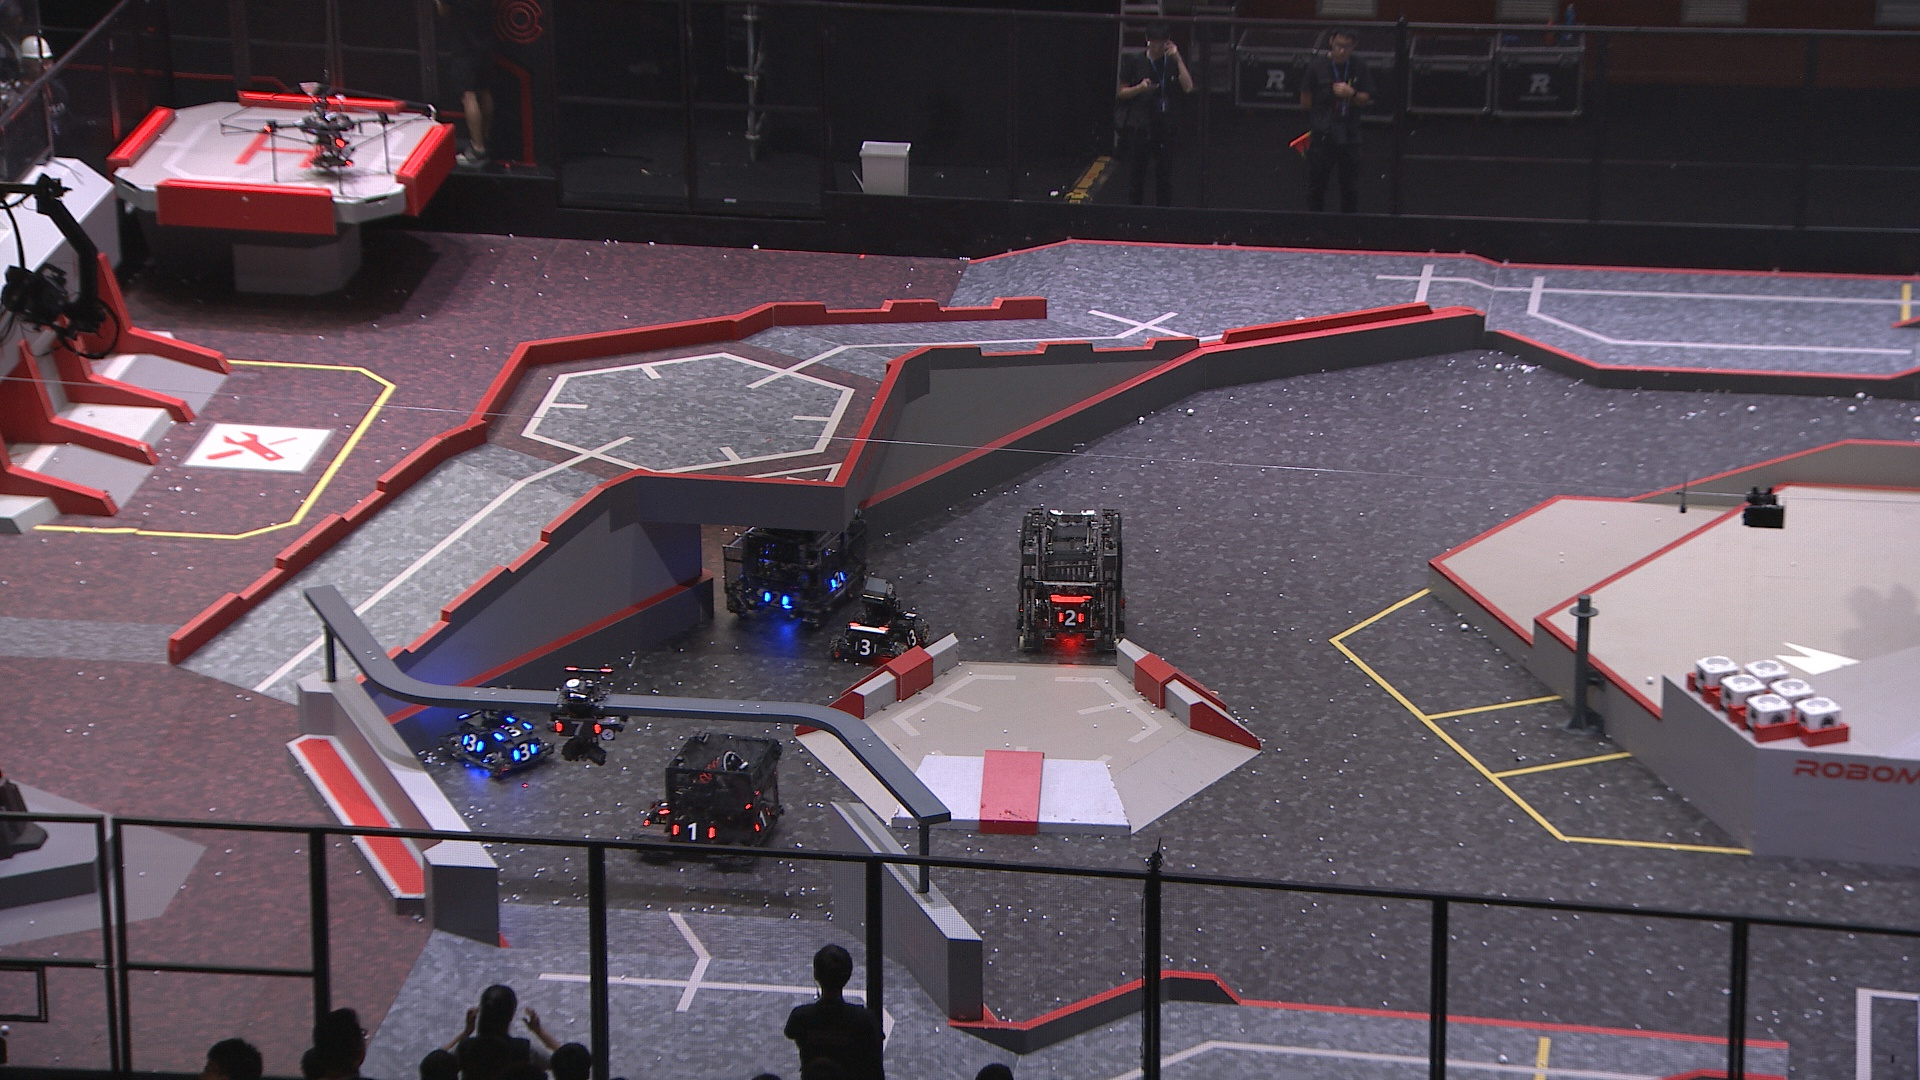armor: (670, 818, 716, 844), (491, 717, 535, 744), (553, 719, 603, 740), (509, 741, 541, 764), (458, 731, 485, 756), (752, 803, 773, 835), (761, 591, 793, 612), (1055, 608, 1084, 629), (851, 638, 880, 655), (828, 567, 847, 593), (657, 794, 676, 816), (905, 624, 920, 647)
car: (638, 723, 785, 870), (716, 502, 868, 632), (1010, 501, 1127, 657), (444, 679, 555, 777), (827, 571, 934, 671)
watcher: (542, 665, 626, 766)
